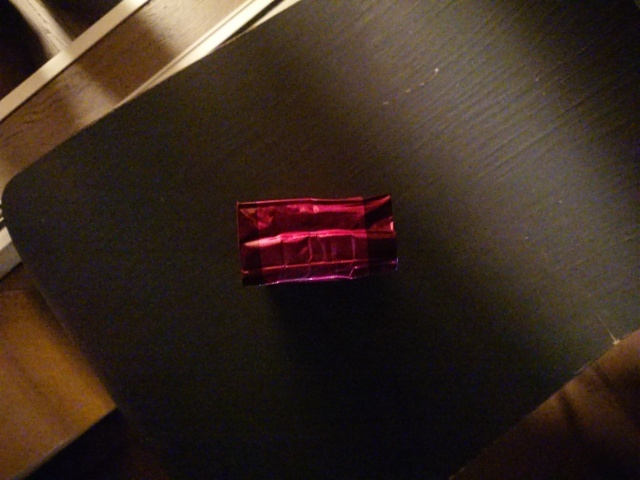Barcaffe Classic Original 225g: (234, 190, 404, 294)
